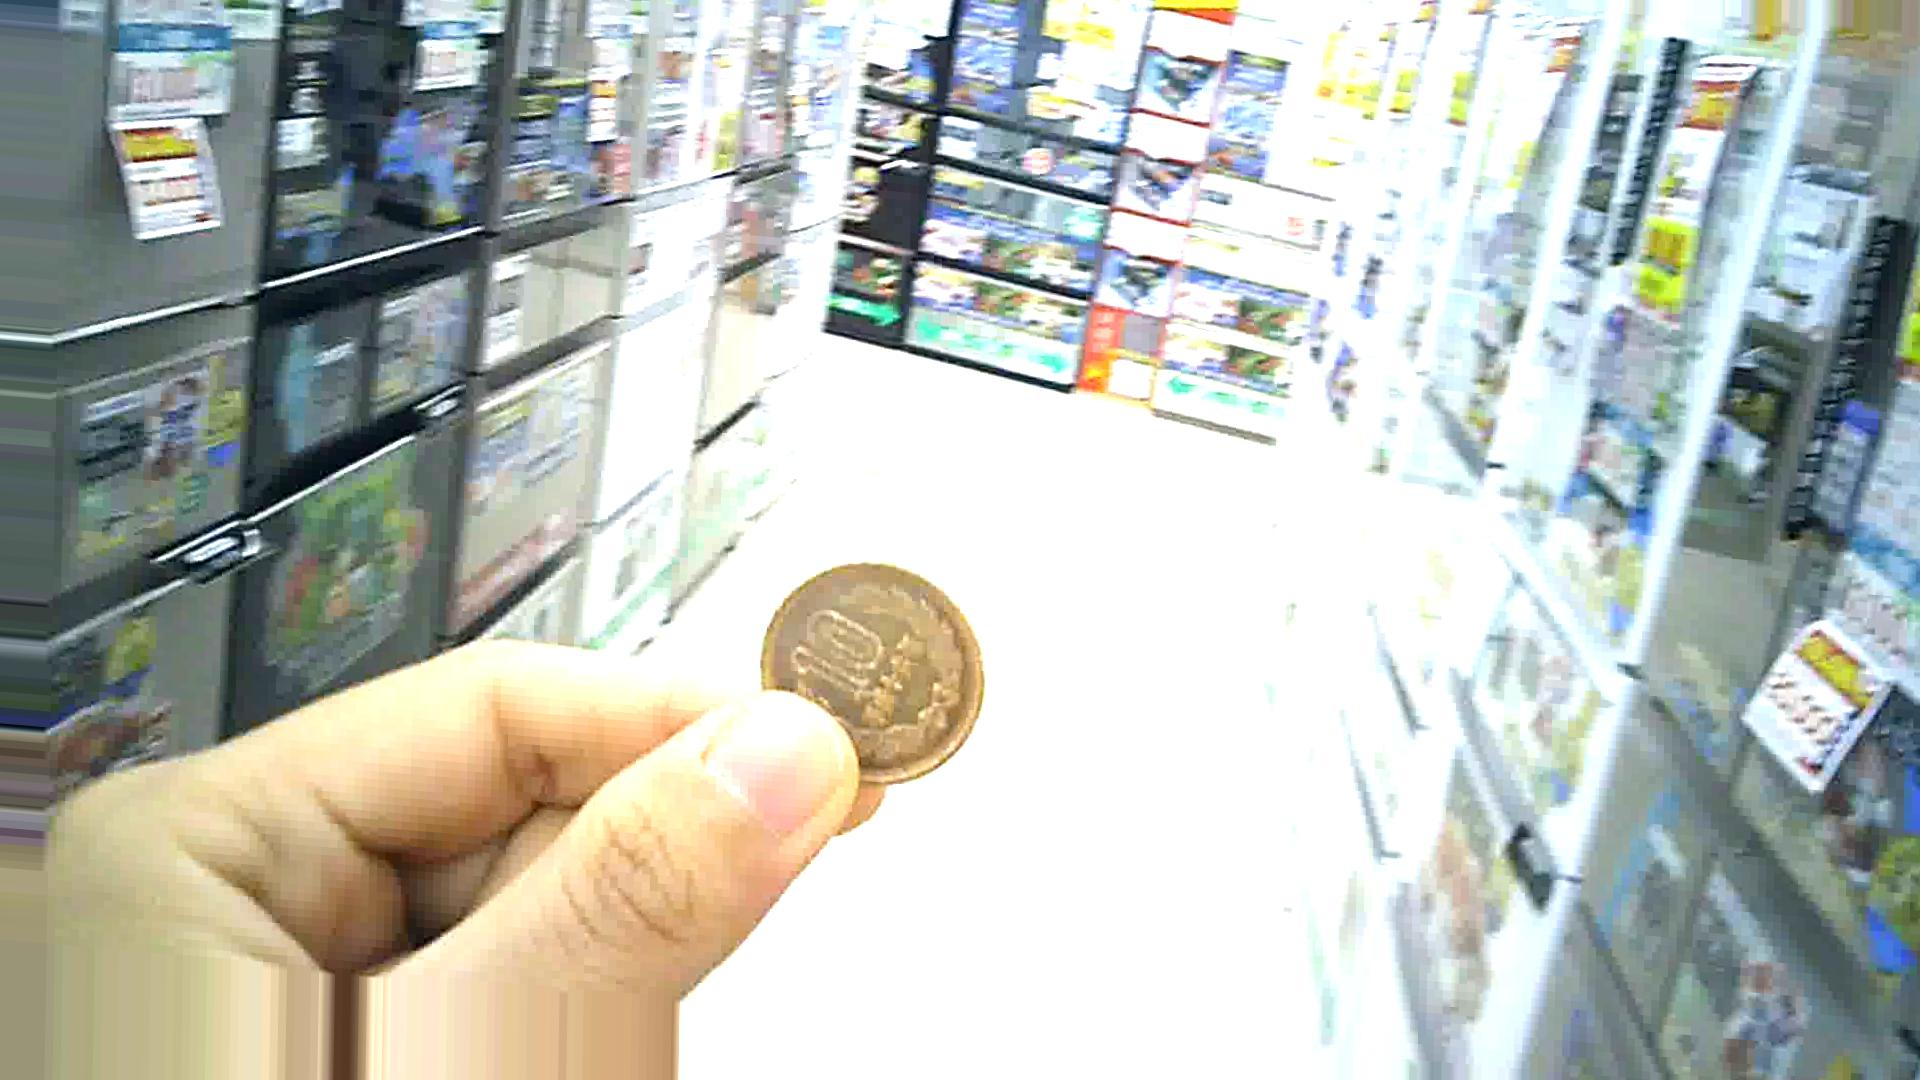10 Yen: (757, 556, 980, 793)
